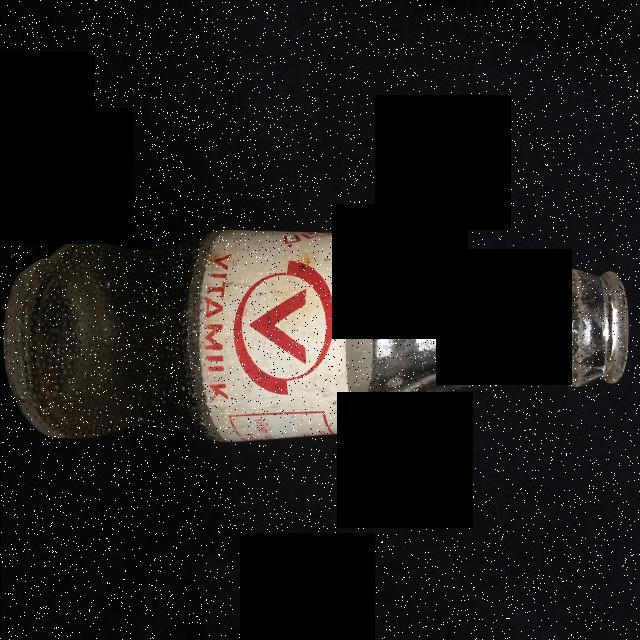glass-bottle: (1, 209, 638, 510)
